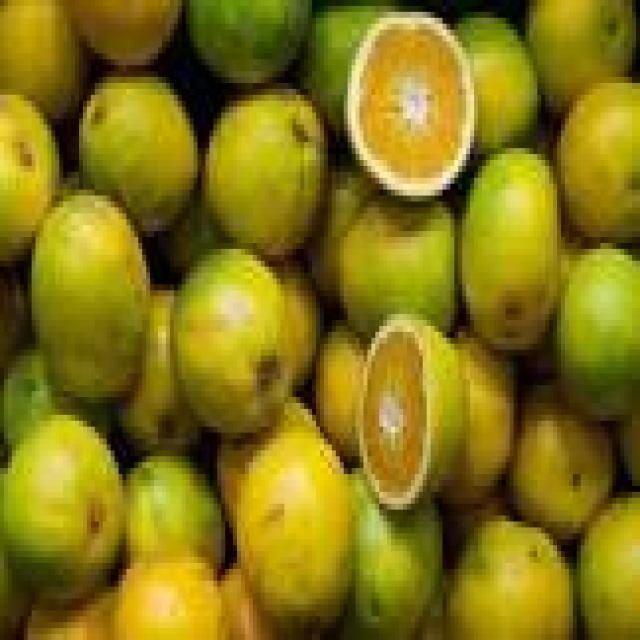orange: (32, 190, 146, 397), (344, 12, 470, 196), (237, 427, 352, 628), (0, 415, 122, 599), (174, 249, 288, 433), (205, 83, 324, 255), (356, 314, 462, 504), (462, 148, 557, 344), (332, 468, 439, 634), (79, 77, 194, 231), (336, 196, 454, 332), (510, 385, 612, 539), (446, 516, 569, 634), (557, 77, 636, 237), (119, 290, 198, 450), (442, 332, 514, 504), (296, 0, 387, 130), (525, 0, 632, 107), (126, 450, 221, 569), (454, 12, 537, 148), (186, 0, 308, 83), (0, 0, 83, 119), (0, 95, 55, 261), (111, 551, 221, 634), (577, 492, 636, 634), (312, 320, 363, 456), (63, 0, 178, 59), (221, 563, 280, 634), (28, 593, 111, 634)
